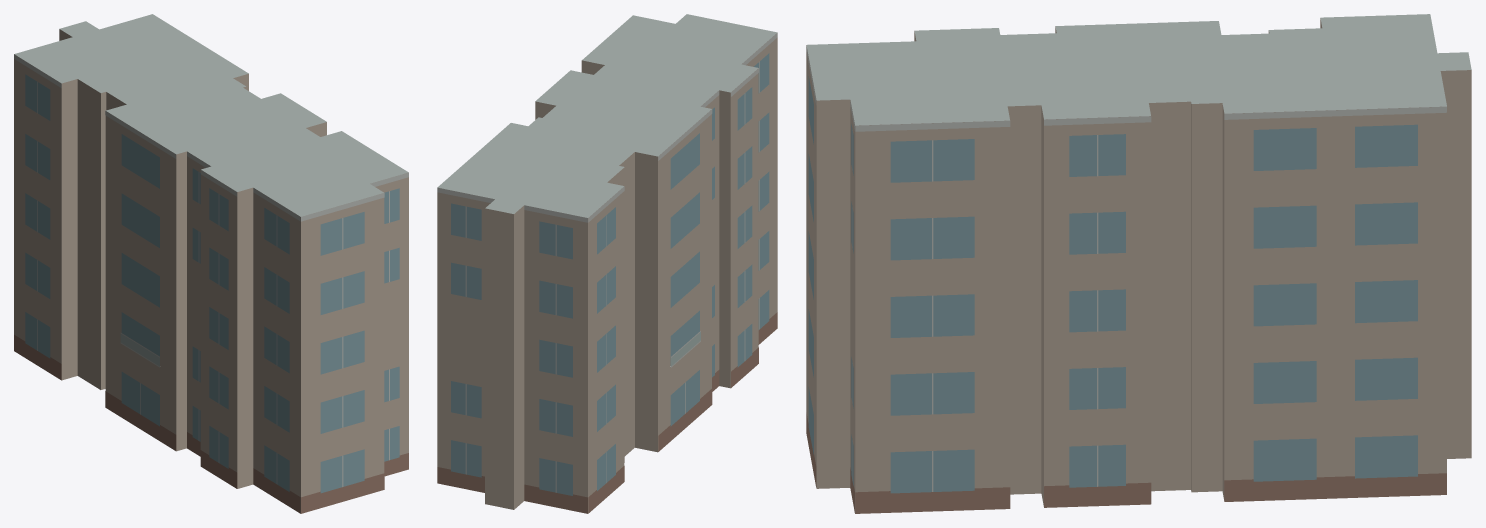
The model's file is survey-upis-32621677.glb.
3 views of the same model, side by side, from view 1: azimuth 30°, elevation 25°; view 2: azimuth 150°, elevation 25°; view 3: azimuth 270°, elevation 25° (orthographic). The views are drawn at different scales.
Parts seen in each view (by area): view 1: survey-upis-32621677.tmp; view 2: survey-upis-32621677.tmp; view 3: survey-upis-32621677.tmp.
Part boxes in pixels (x1,y1,x2,y2): survey-upis-32621677.tmp: [14, 14, 408, 513]; survey-upis-32621677.tmp: [437, 14, 777, 513]; survey-upis-32621677.tmp: [806, 14, 1471, 513].
Size of the model in its own units: 9.38 by 15.2 by 23.6.
